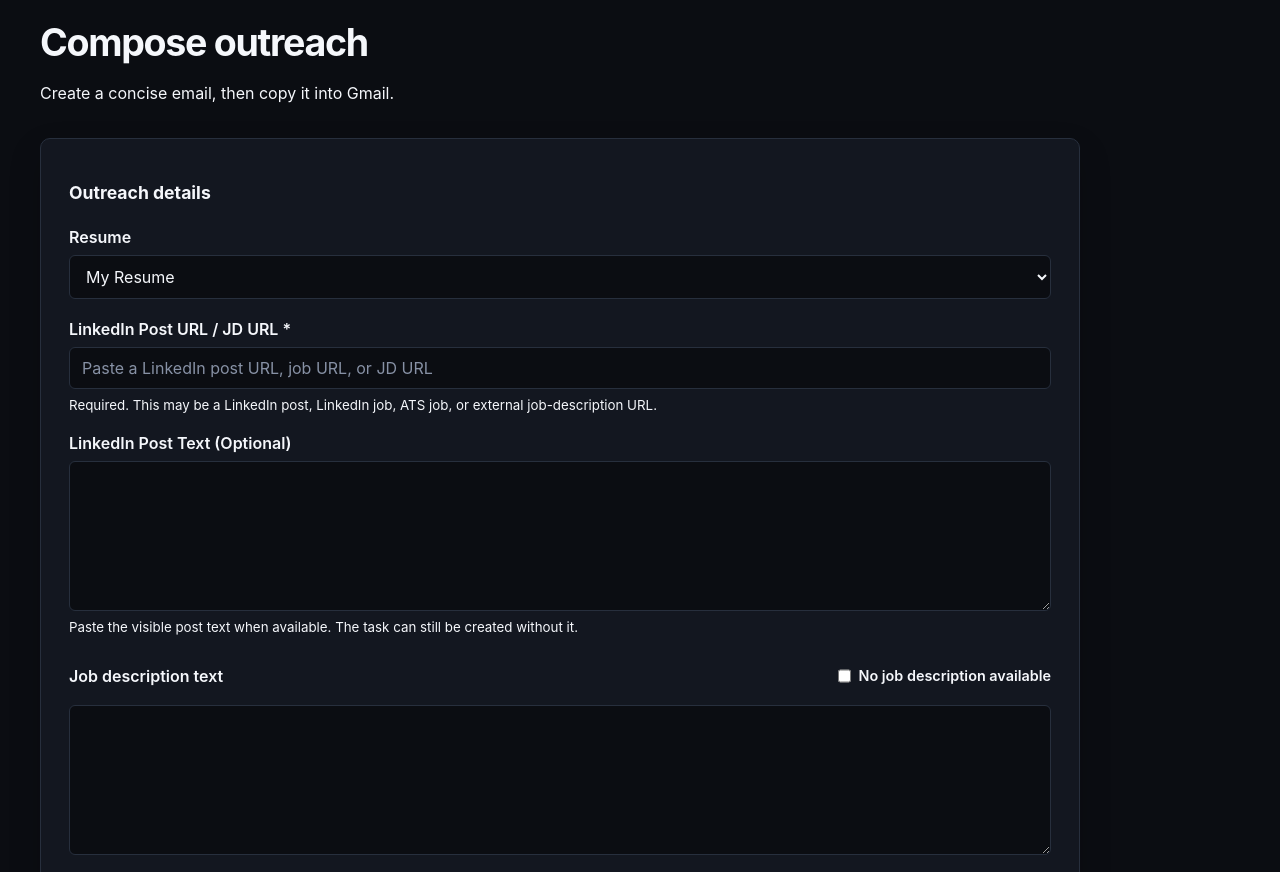
Test: OutreachPage › generates and displays editable email content
This screenshot has width=1280, height=872.
Type "https://jobs.example.com/role" into the field labelled "LinkedIn Post URL / JD URL *".
click(560, 368); type("https://jobs.example.com/role")  # box [69,347,1051,389]
(page scrolled)
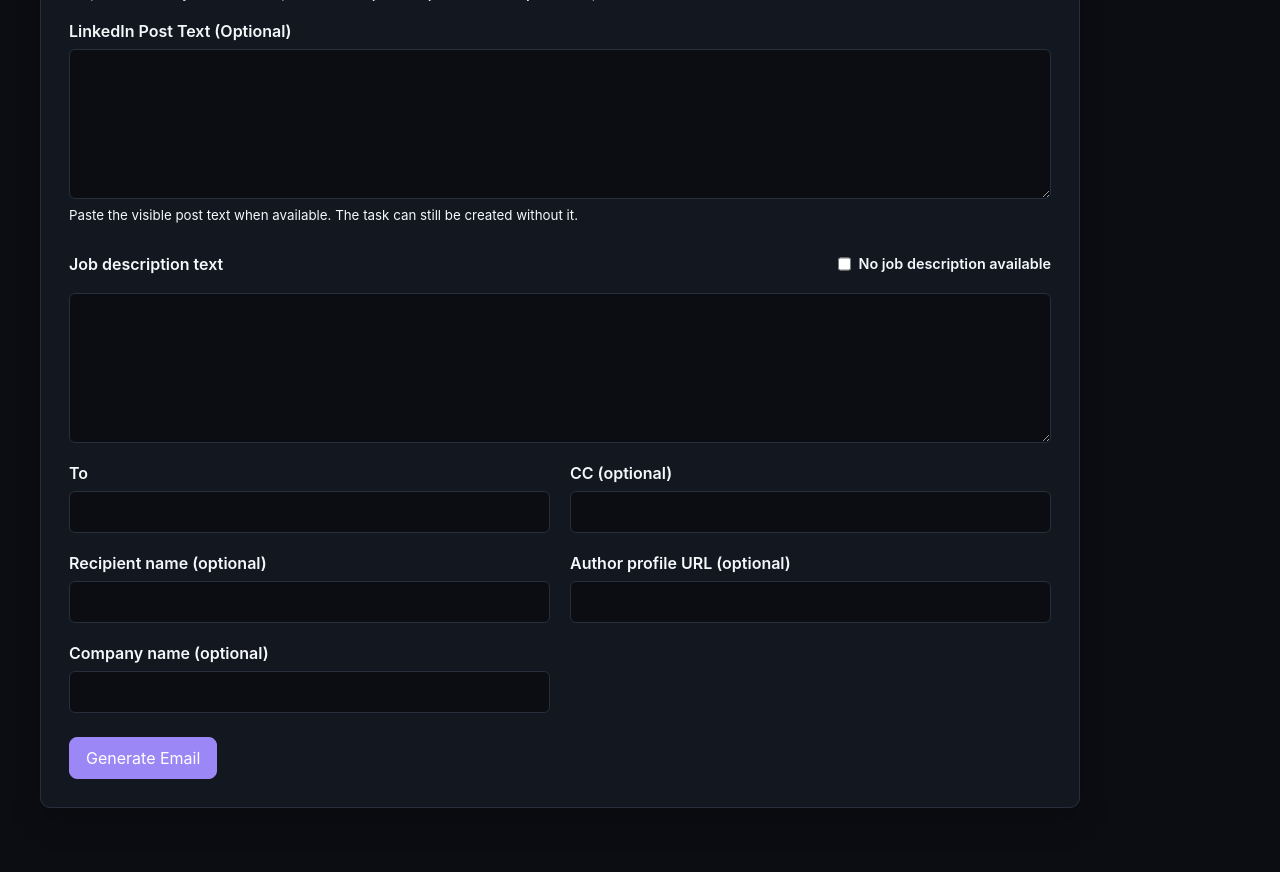
Type "recipient@example.com" into the field labelled "To".
click(310, 512); type("recipient@example.com")  # box [69,491,550,533]
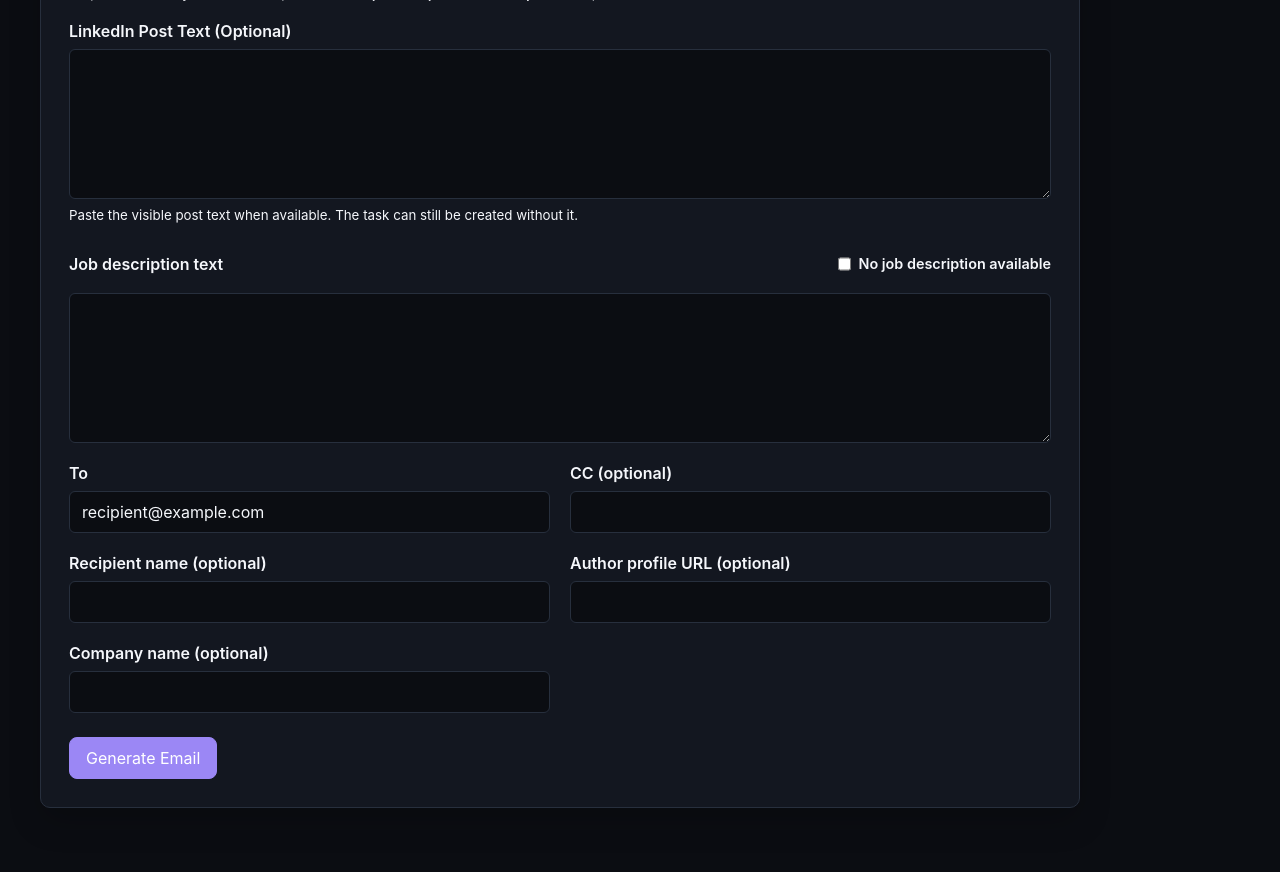
Click the button "Generate Email".
click(143, 758)  # box [69,737,217,779]
(page scrolled)
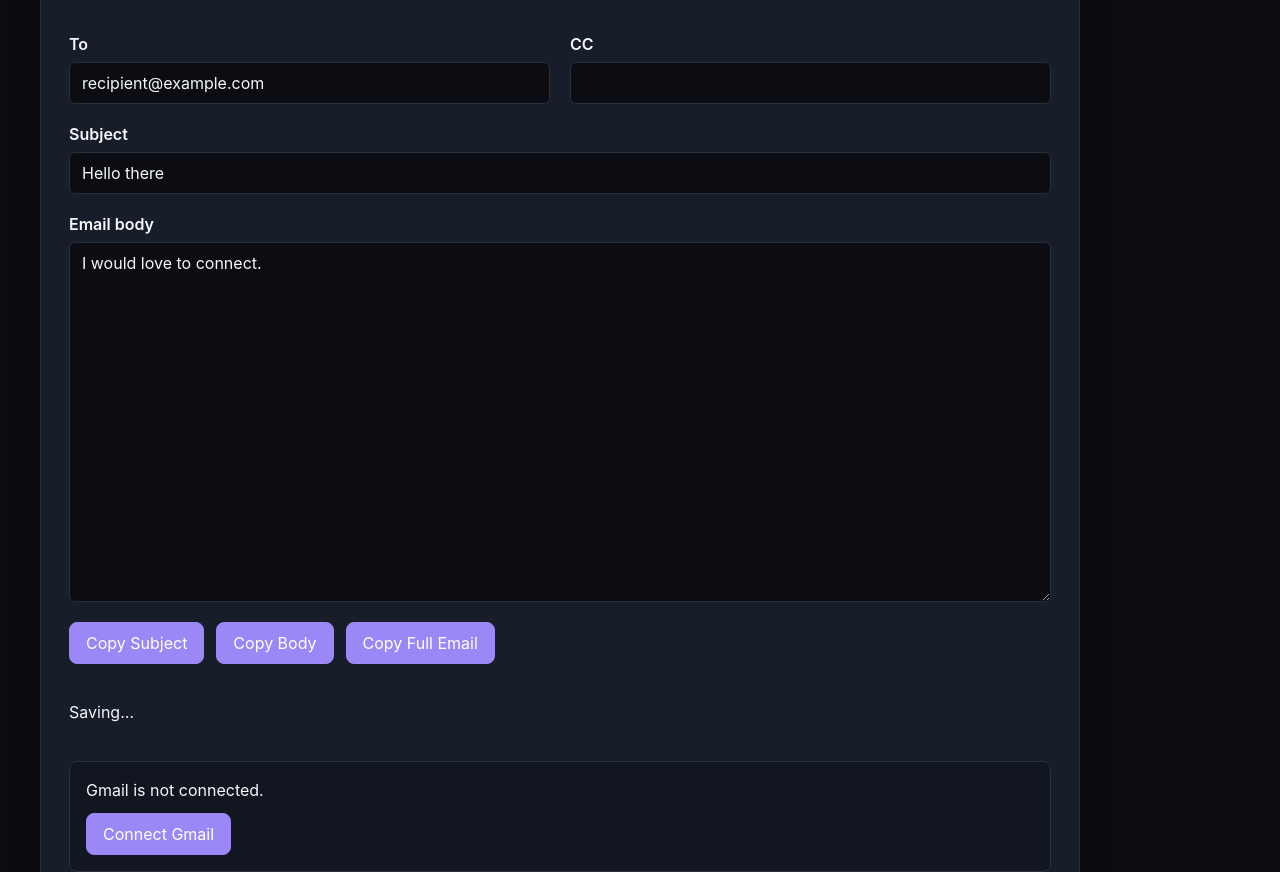
Check: the field showing "Hello there" is shown, box [69,152,1051,194]
Check: the text box showing "I would love to connect." is shown, box [69,242,1051,602]
